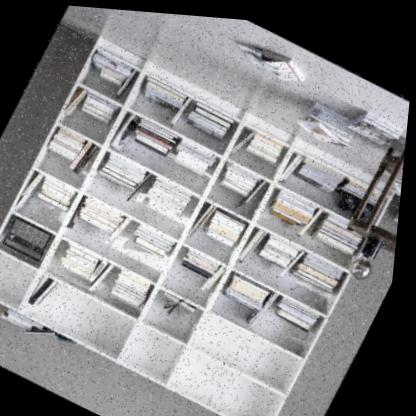Shelf: (0, 13, 415, 416)
